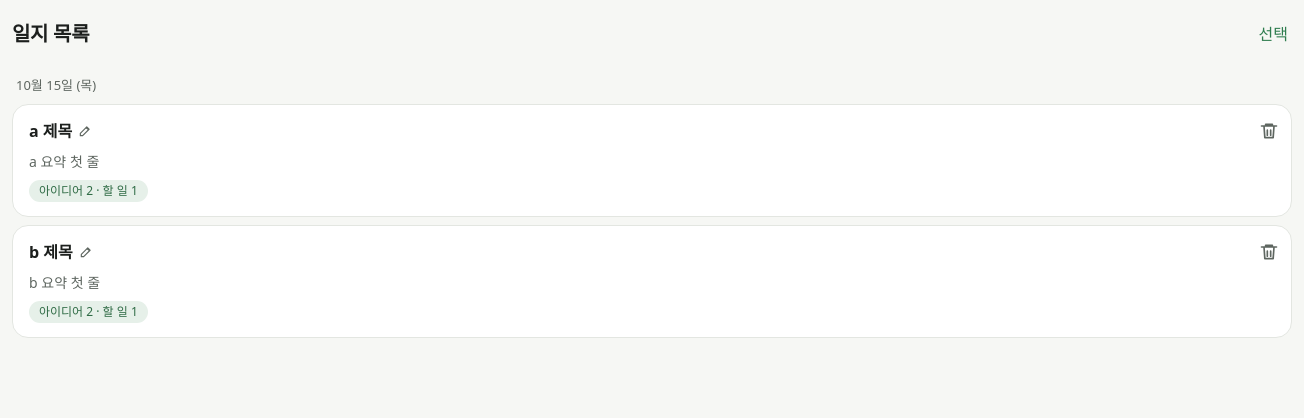
Test: JournalListScreen › 일부만 지우지 못하면 그 항목을 선택한 채 남기고 알린다
The width and height of the screenshot is (1304, 418).
Click the button "선택".
click(1269, 34)  # box [1246,12,1292,56]
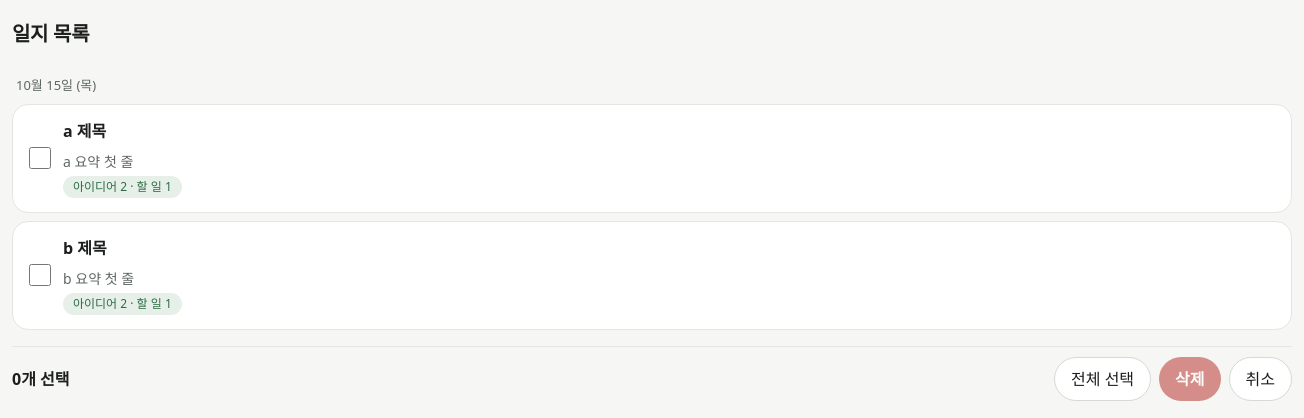
Click the button "전체 선택".
click(1102, 378)  # box [1054,356,1151,400]
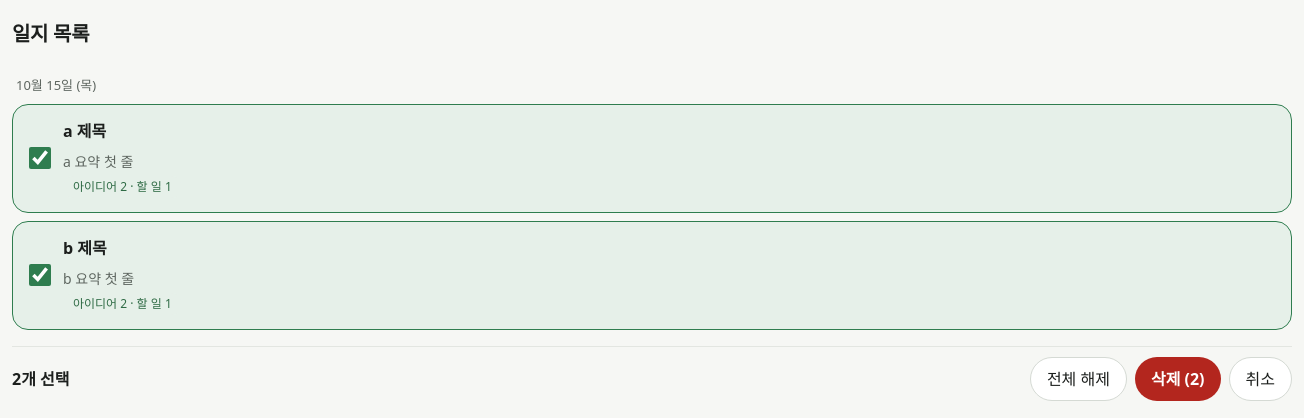
Click the button "삭제 (2)".
click(1178, 378)  # box [1135,356,1220,400]
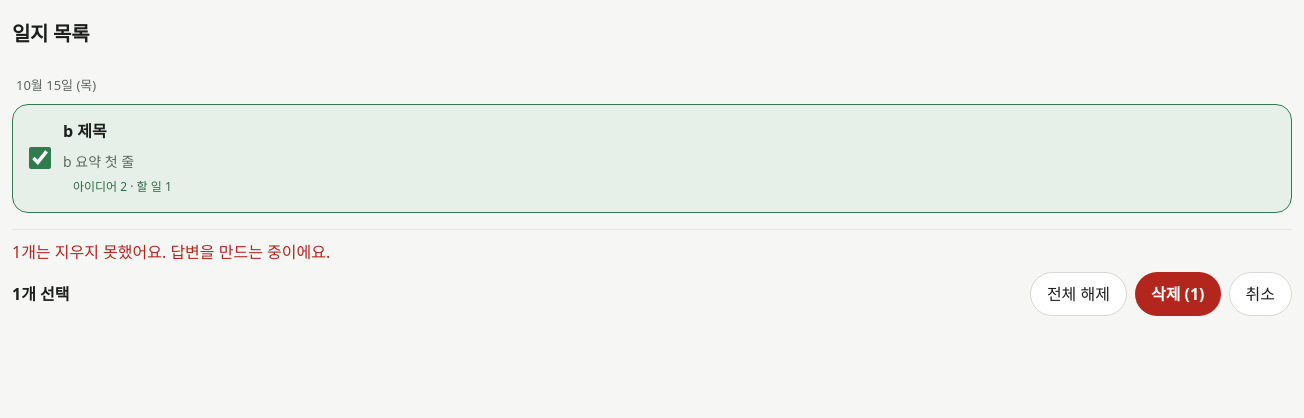
Expected: the checkbox named "선택: b 제목" is checked, [29,147,51,169]
Expected: the message shows "1개는 지우지 못했어요.", [12,240,330,262]
Expected: the text "a 제목" is gone
